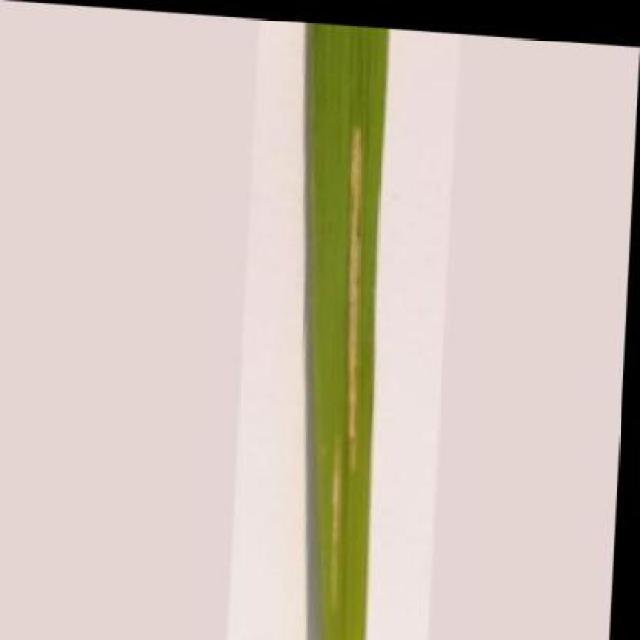Brown_Spot: (277, 17, 401, 640)
